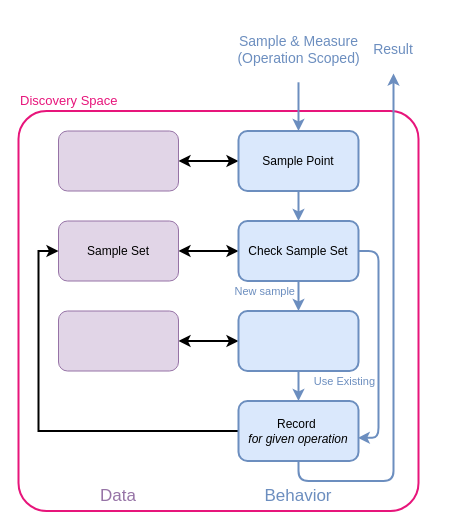
This 455x529 diagram has some shape labels left out. Each missing label, with the box of its shape:
Action Space Definition: (58, 310, 178, 371)
Configuration Probability Space Definition: (58, 130, 178, 191)
Measure: (237, 310, 359, 372)
